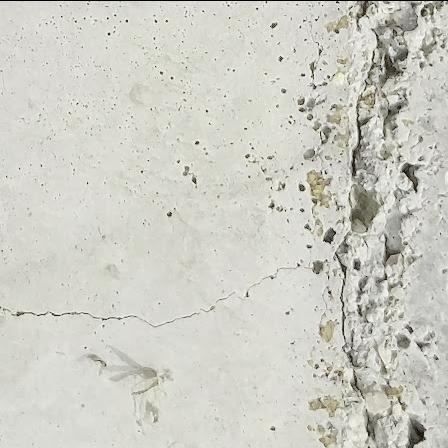crack: (0, 255, 311, 343), (328, 225, 374, 440), (343, 45, 379, 181)
spalling: (340, 0, 445, 147), (347, 197, 429, 333), (334, 179, 389, 238)
